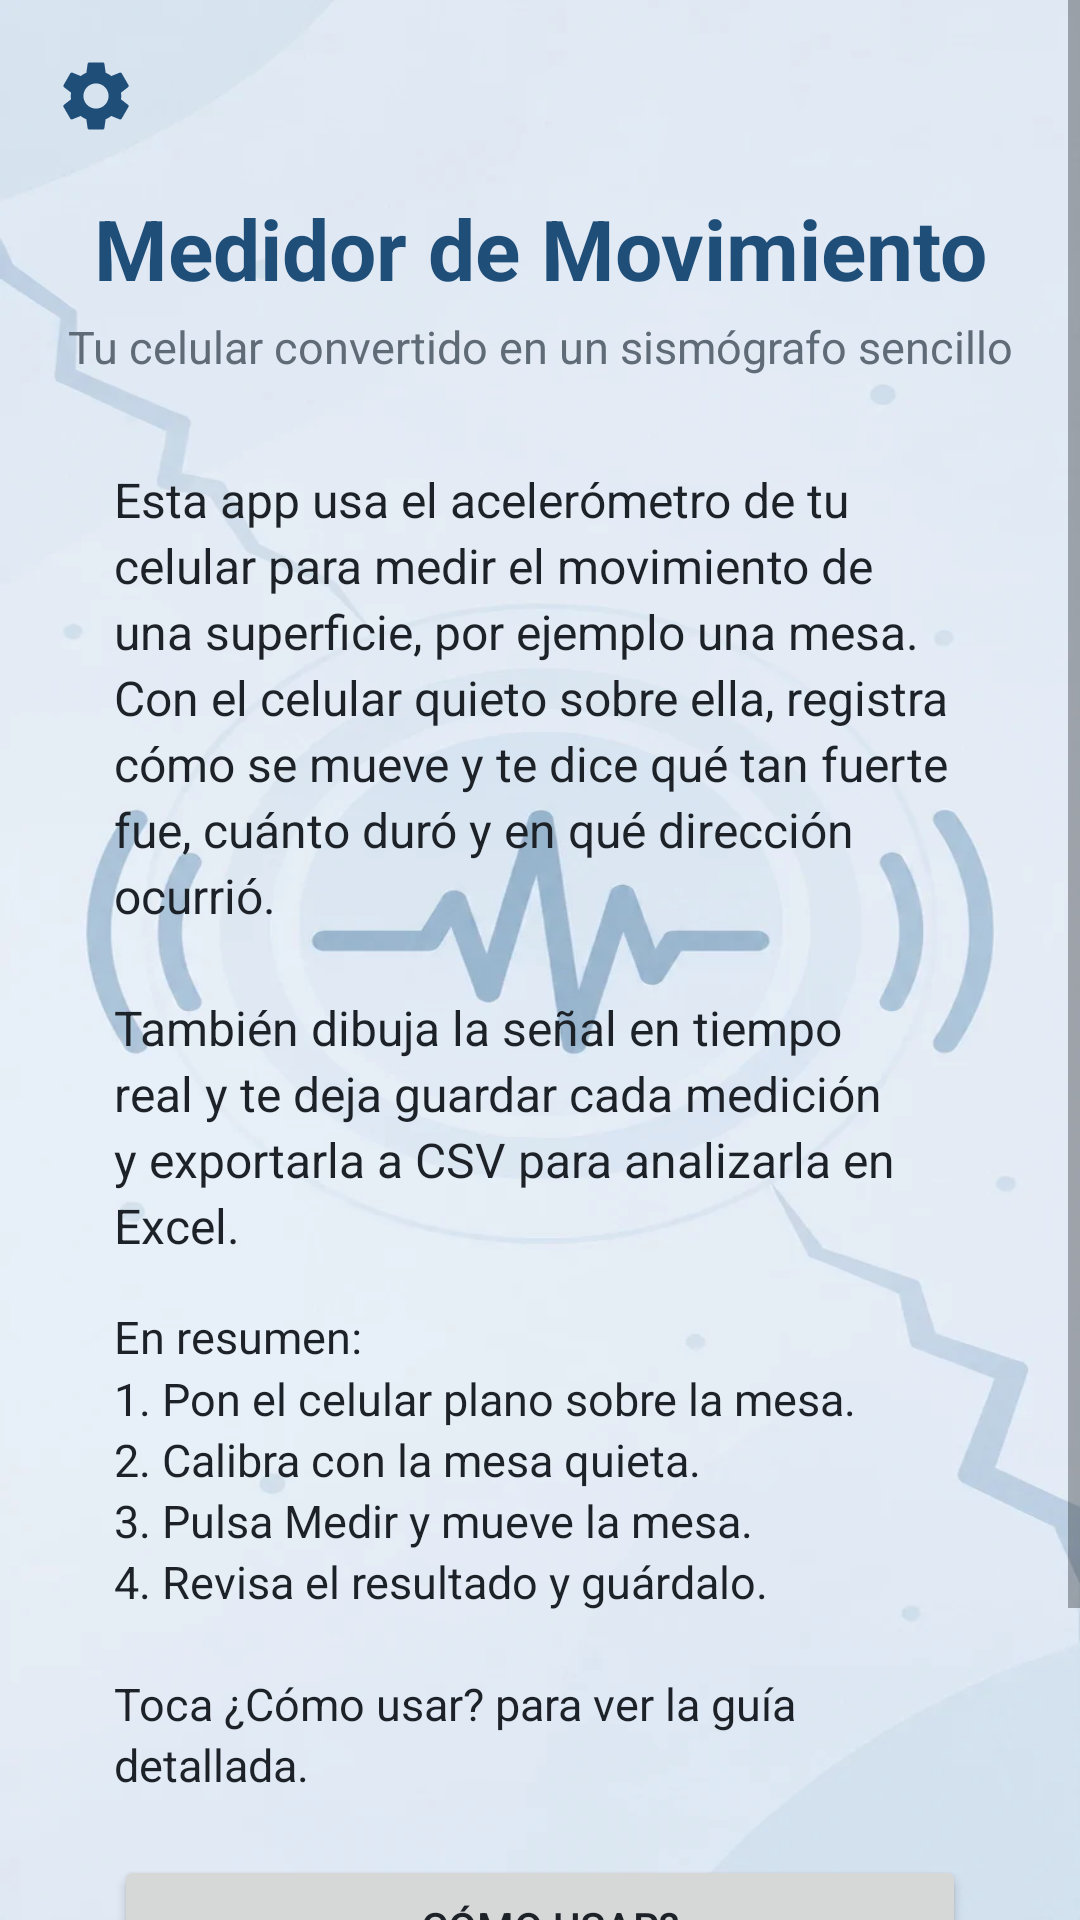

Icon bounding boxes for this 1080px×1920px phone screenshot, format (x1, y1, x2, y2):
Configuración: (63, 62, 129, 130)
